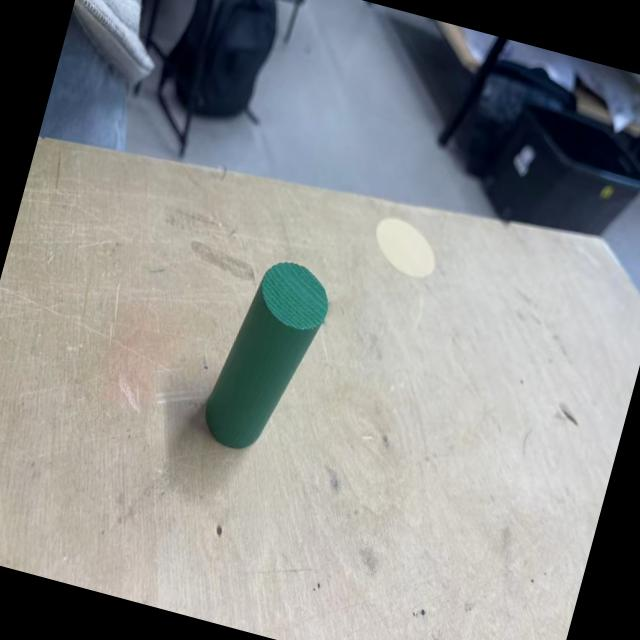green_cylinder: (195, 248, 338, 464)
